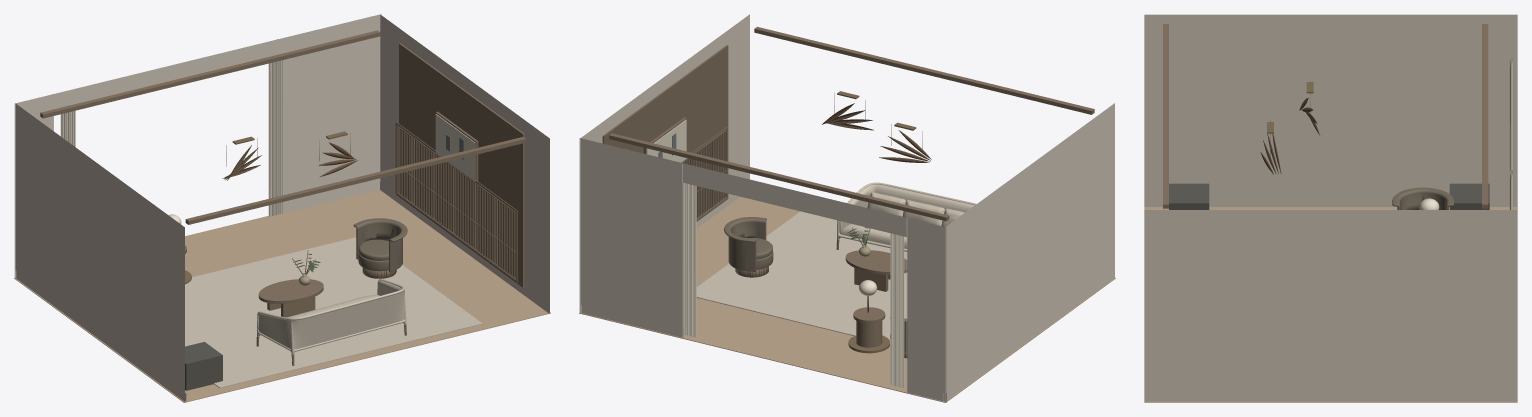
File: great-3.glb
The picture shows the model from 3 angles, left to right: view 1: azimuth 30°, elevation 25°; view 2: azimuth 150°, elevation 25°; view 3: azimuth 270°, elevation 25°; orthographic projection. The views are drawn at different scales.
Visible parts, largest first — view 1: DESIGN | great removable wall finish, DESIGN | Great room primary ground, DESIGN | great floor finish, DESIGN | Retreat timber wall plane, DESIGN | Kumiko | Great room low craft datum, DESIGN | Great room sofa facing conversation, DESIGN | Required Bellustar swivel chair one, DESIGN | Retreat concealed light edge.001, DESIGN | Retreat concealed light edge, DESIGN | Great room soft window edge.001, DESIGN | Great room low stone display, DESIGN | Textile artwork.001 (+4 smaller); view 2: DESIGN | great removable wall finish, DESIGN | great floor finish, DESIGN | Great room primary ground, DESIGN | Retreat timber wall plane, DESIGN | Great room sofa facing conversation, DESIGN | Retreat concealed light edge, DESIGN | Retreat concealed light edge.001, DESIGN | Required Bellustar swivel chair one, DESIGN | Great room soft window edge, DESIGN | Great room soft window edge.001, DESIGN | Kumiko | Great room low craft datum, DESIGN | Great room conversation table top (+5 smaller); view 3: DESIGN | great removable wall finish, DESIGN | great floor finish, DESIGN | Retreat concealed light edge.001, DESIGN | Retreat concealed light edge, DESIGN | Great room low stone display, DESIGN | Required Bellustar swivel chair two, DESIGN | Great room low stone display.001, DESIGN | Great room soft window edge, DESIGN | Required Flou pendant 2.
Part boxes in pixels (x1,y1,x2,y2): DESIGN | great removable wall finish: (14, 14, 549, 401); DESIGN | Great room primary ground: (185, 237, 482, 388); DESIGN | great floor finish: (14, 190, 550, 402); DESIGN | Retreat timber wall plane: (399, 43, 524, 287); DESIGN | Kumiko | Great room low craft datum: (395, 122, 517, 282); DESIGN | Great room sofa facing conversation: (256, 279, 406, 365); DESIGN | Required Bellustar swivel chair one: (353, 218, 407, 278); DESIGN | Retreat concealed light edge.001: (40, 30, 380, 118); DESIGN | Retreat concealed light edge: (185, 137, 525, 224); DESIGN | Great room soft window edge.001: (268, 60, 283, 216); DESIGN | Great room low stone display: (185, 342, 222, 390); DESIGN | Textile artwork.001: (435, 114, 475, 181); DESIGN | great removable wall finish: (579, 14, 1114, 401); DESIGN | great floor finish: (579, 196, 1115, 402); DESIGN | Great room primary ground: (696, 211, 907, 344); DESIGN | Retreat timber wall plane: (602, 45, 728, 221); DESIGN | Great room sofa facing conversation: (836, 182, 976, 251); DESIGN | Retreat concealed light edge: (754, 26, 1094, 114); DESIGN | Retreat concealed light edge.001: (609, 133, 949, 221); DESIGN | Required Bellustar swivel chair one: (724, 217, 773, 277); DESIGN | Great room soft window edge: (890, 233, 904, 387); DESIGN | Great room soft window edge.001: (683, 182, 696, 337); DESIGN | Kumiko | Great room low craft datum: (682, 127, 727, 221); DESIGN | Great room conversation table top: (845, 250, 907, 274); DESIGN | great removable wall finish: (1144, 14, 1517, 401); DESIGN | great floor finish: (1144, 207, 1517, 402); DESIGN | Retreat concealed light edge.001: (1482, 24, 1488, 208); DESIGN | Retreat concealed light edge: (1163, 24, 1168, 208); DESIGN | Great room low stone display: (1169, 183, 1209, 209); DESIGN | Required Bellustar swivel chair two: (1392, 187, 1453, 209); DESIGN | Great room low stone display.001: (1449, 183, 1489, 209); DESIGN | Great room soft window edge: (1509, 59, 1513, 170); DESIGN | Required Flou pendant 2: (1260, 133, 1281, 174).
Size of the model in its own units: 6 by 2.74 by 4.82.
